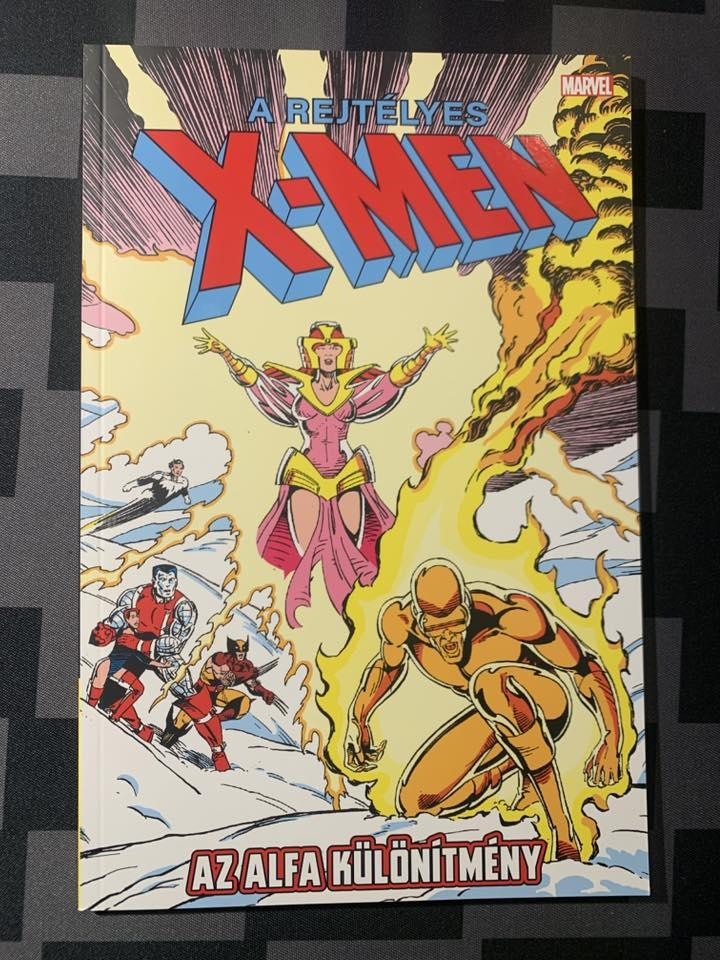comic: (80, 46, 648, 909)
